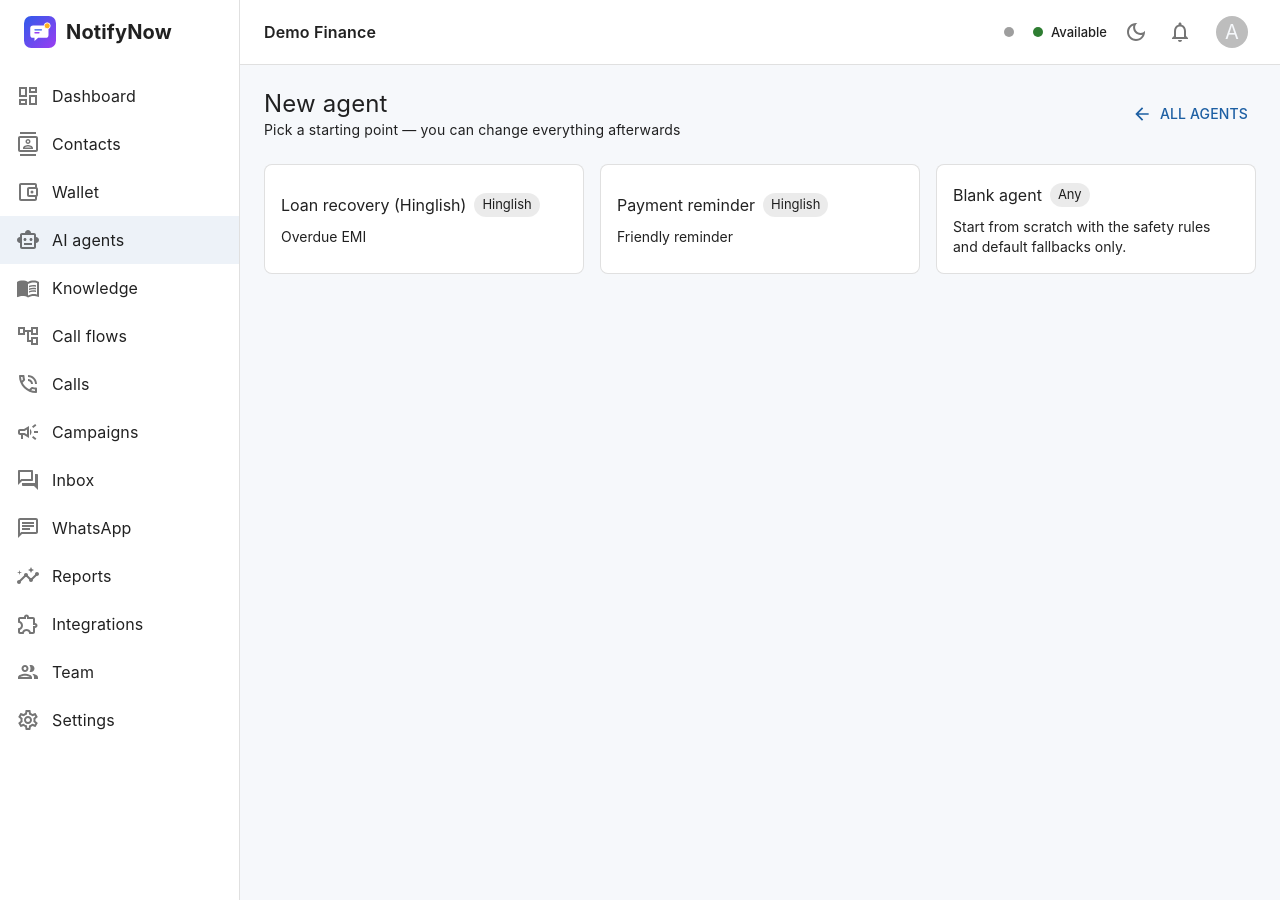
Test: /agents/new › blank agent: name required, duplicate name error shown
This screenshot has width=1280, height=900.
Click the heading "Blank agent": [997, 195] box [953,181,1042,209]
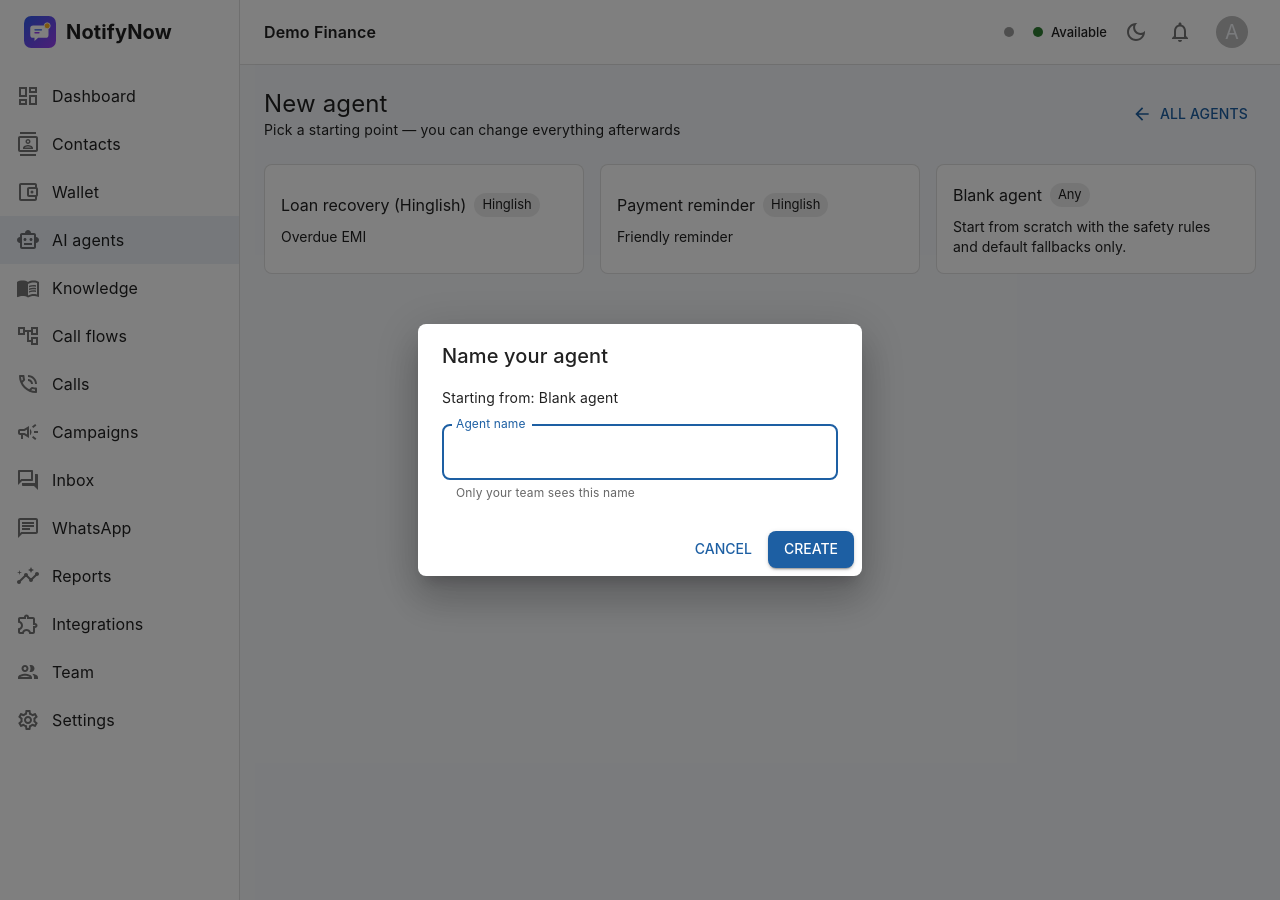
Click the button "Create": [811, 549] box [768,531,854,568]
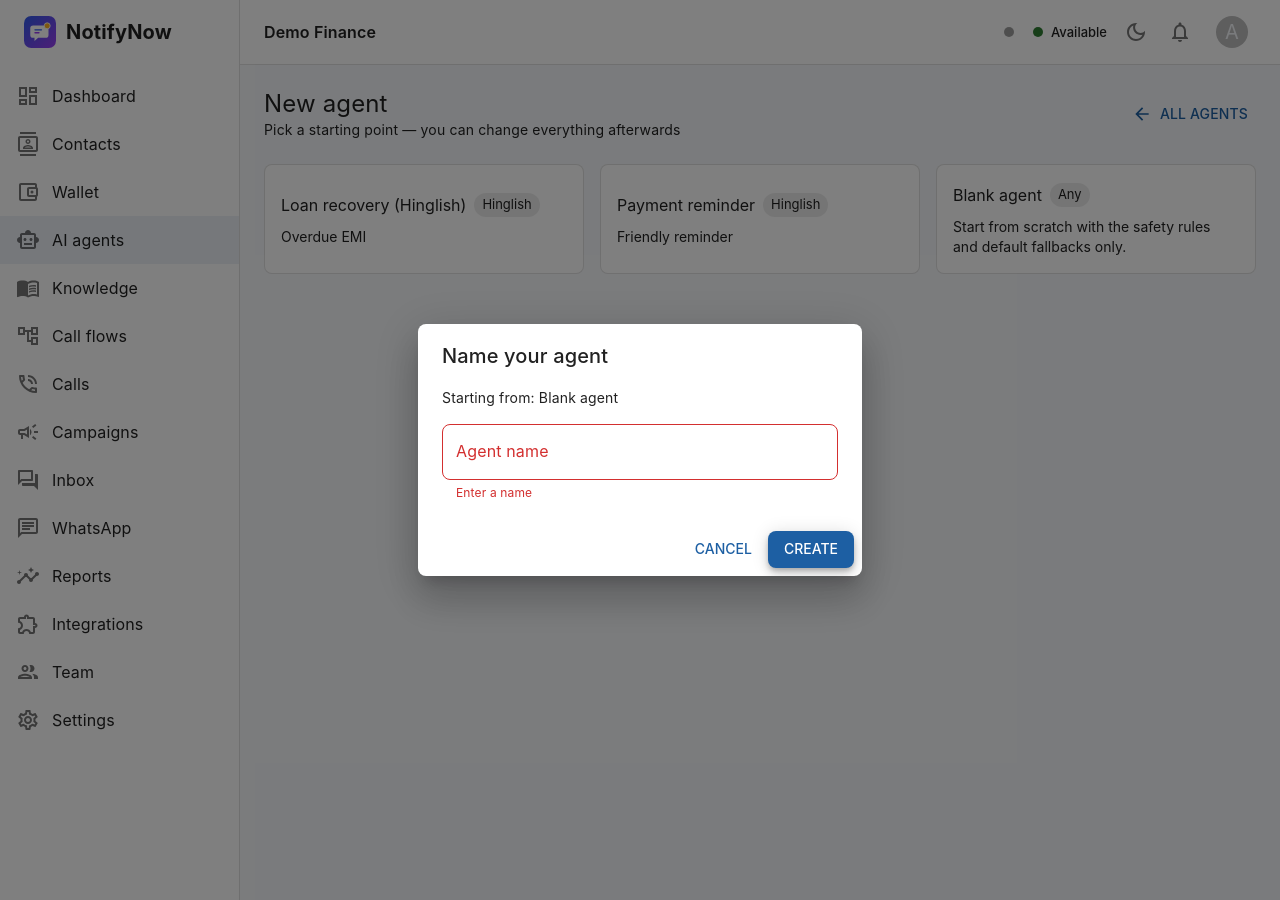
Now the text "Enter a name" is shown, box [456,485,532,500]
In the field labelled "Agent name": [640, 452] box [442,424,838,480], type "Taken"
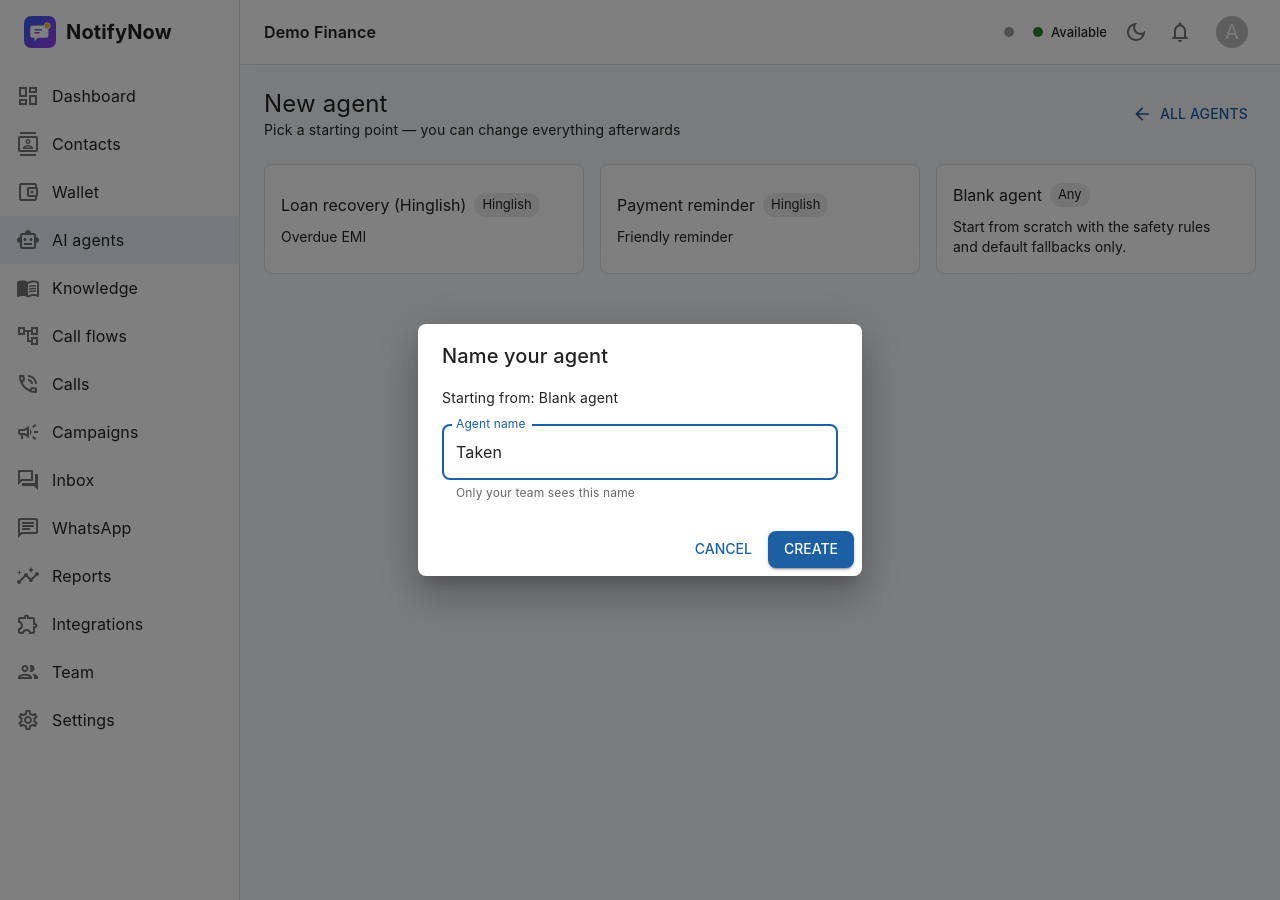
Click the button "Create": [811, 549] box [768,531,854,568]
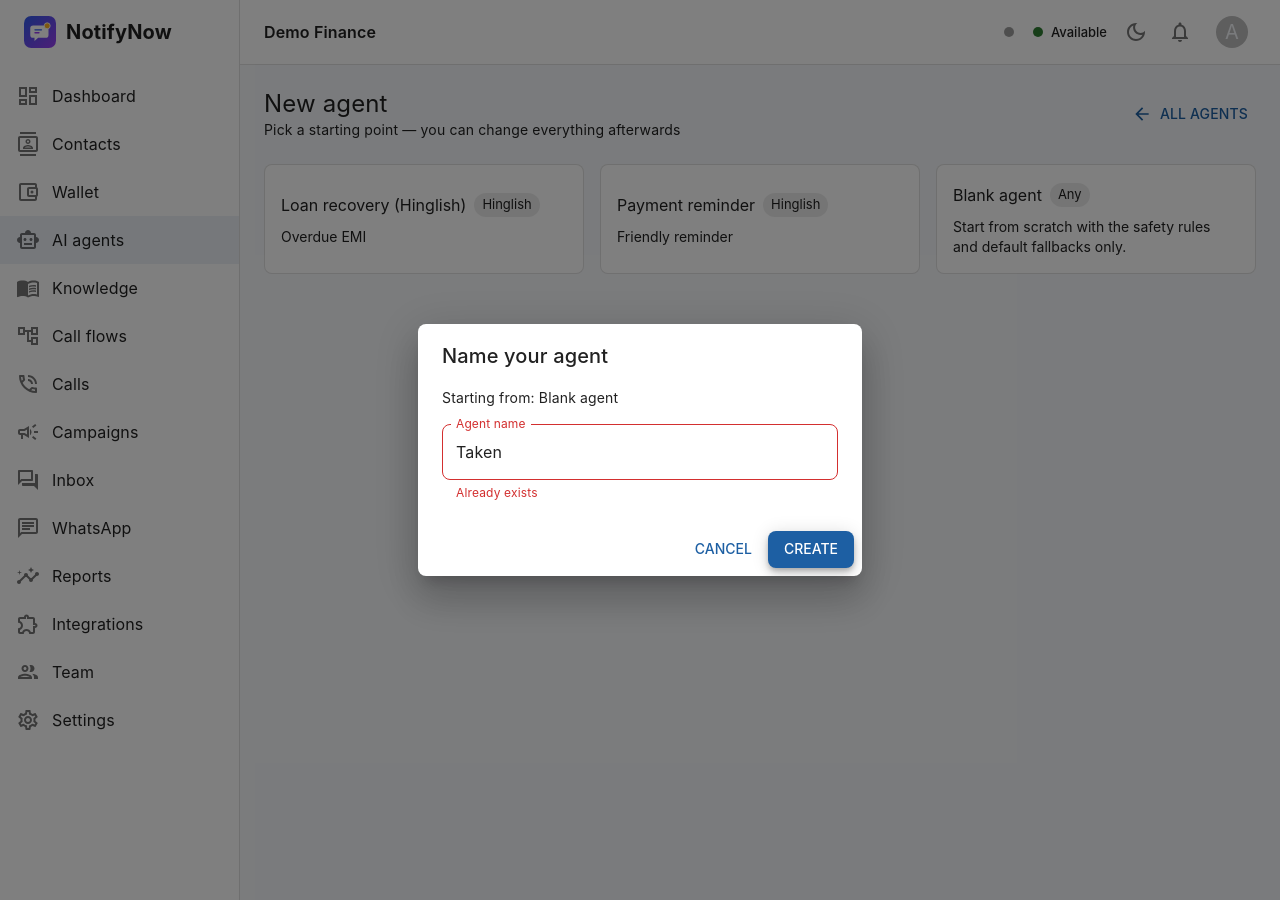
Now the text "Already exists" is shown, box [456,485,538,500]
